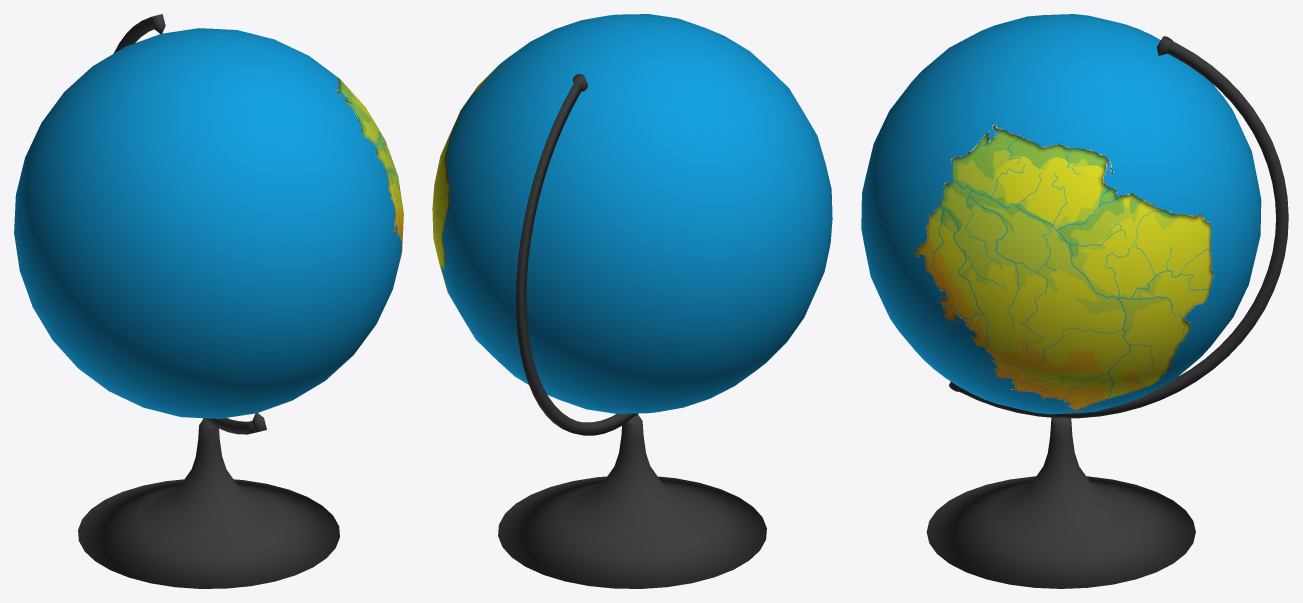
File: globus_polski.fbx
3 renders of one model, left to right at view 1: azimuth 30°, elevation 25°; view 2: azimuth 150°, elevation 25°; view 3: azimuth 270°, elevation 25°, orthographic. The views are drawn at different scales.
Visible parts, largest first — view 1: Cylinder.001; view 2: Cylinder.001; view 3: Cylinder.001.
Part boxes in pixels (<box>): Cylinder.001: <box>14,14,403,588</box>; Cylinder.001: <box>432,14,832,588</box>; Cylinder.001: <box>861,14,1288,588</box>.
Bounding box in the file's own units: 200 × 274 × 213.
2 materials, 1 textured.
